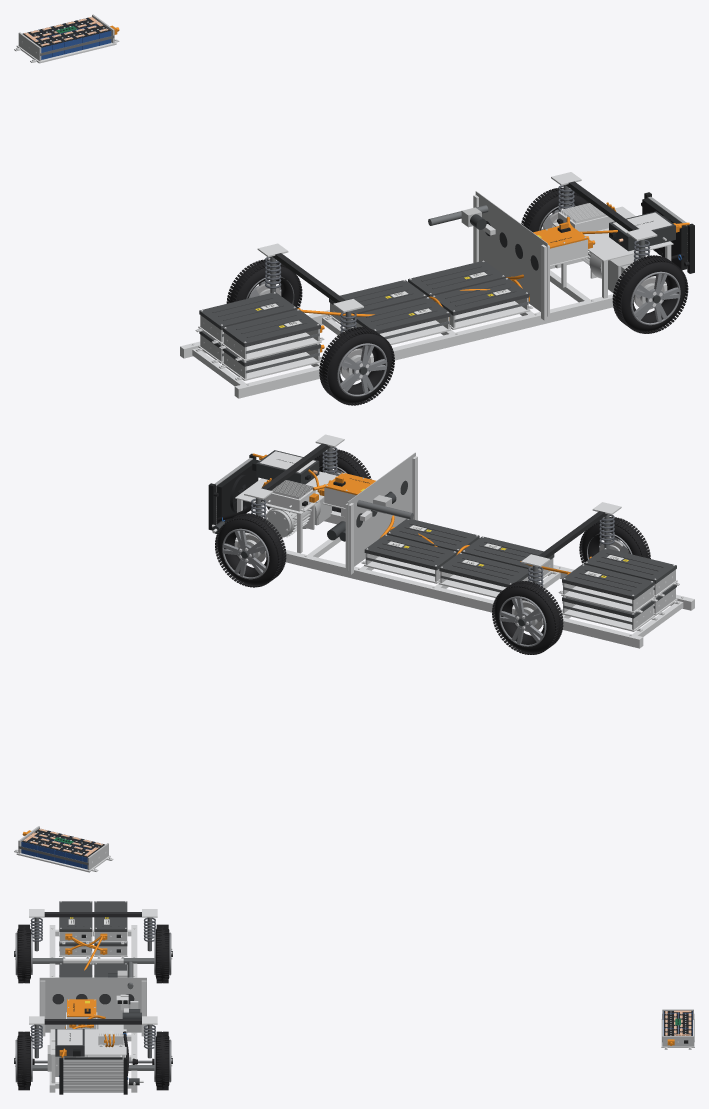
File: BURAQ_BQ10_v3.glb
3 renders of one model, top to bottom at view 1: azimuth 30°, elevation 25°; view 2: azimuth 150°, elevation 25°; view 3: azimuth 270°, elevation 25°, orthographic. The views are drawn at different scales.
Visible parts, largest first — view 1: rail-0.42, bulkhead, W_RR_tyre, W_FR_tyre, M2_open, M2_B3_lid, M2_B7_lid, M2_B5_lid, M2_B4_lid, M2_B8_lid, M2_B6_lid, W_RL_tyre (+13 smaller); view 2: rail0.42, bulkhead, W_FL_tyre, W_RL_tyre, M2_open, M2_B4_lid, M2_B8_lid, M2_B6_lid, M2_B3_lid, M2_B7_lid, M2_B5_lid, W_RR_tyre (+9 smaller); view 3: bulkhead, rad_core, M2_B4_lid, shelf, M2_B3_lid, M2_open, rail0.42, front_cross_top, rear_cross_top, mcu_case, pdu_lid, M2_B5_lid (+13 smaller).
Boxes of the visible parts, <box> form: rail-0.42: <box>234,283,667,398</box>; bulkhead: <box>475,191,547,316</box>; W_RR_tyre: <box>322,329,391,403</box>; W_FR_tyre: <box>615,258,685,331</box>; M2_open: <box>22,17,111,59</box>; M2_B3_lid: <box>222,309,320,347</box>; M2_B7_lid: <box>431,277,529,315</box>; M2_B5_lid: <box>352,297,450,333</box>; M2_B4_lid: <box>199,292,297,329</box>; M2_B8_lid: <box>408,260,506,296</box>; M2_B6_lid: <box>329,280,427,313</box>; W_RL_tyre: <box>229,262,299,306</box>; rail0.42: <box>234,538,643,648</box>; bulkhead: <box>347,452,415,570</box>; W_FL_tyre: <box>217,515,283,585</box>; W_RL_tyre: <box>494,583,560,652</box>; M2_open: <box>21,828,104,869</box>; M2_B4_lid: <box>562,564,654,599</box>; M2_B8_lid: <box>364,534,457,570</box>; M2_B6_lid: <box>439,553,531,587</box>; M2_B3_lid: <box>584,548,676,583</box>; M2_B7_lid: <box>387,519,479,551</box>; M2_B5_lid: <box>461,536,554,570</box>; W_RR_tyre: <box>582,520,647,561</box>; bulkhead: <box>39,977,146,1032</box>; rad_core: <box>63,1059,123,1092</box>; M2_B4_lid: <box>94,901,127,931</box>; shelf: <box>50,1029,126,1055</box>; M2_B3_lid: <box>59,901,92,931</box>; M2_open: <box>663,1011,692,1035</box>; rail0.42: <box>131,925,137,1092</box>; front_cross_top: <box>44,1019,141,1024</box>; rear_cross_top: <box>44,912,141,917</box>; mcu_case: <box>98,1024,123,1045</box>; pdu_lid: <box>67,999,96,1016</box>; M2_B5_lid: <box>59,963,92,977</box>.
Size of the model in its own units: 4.1 by 0.8606 by 6.99.
